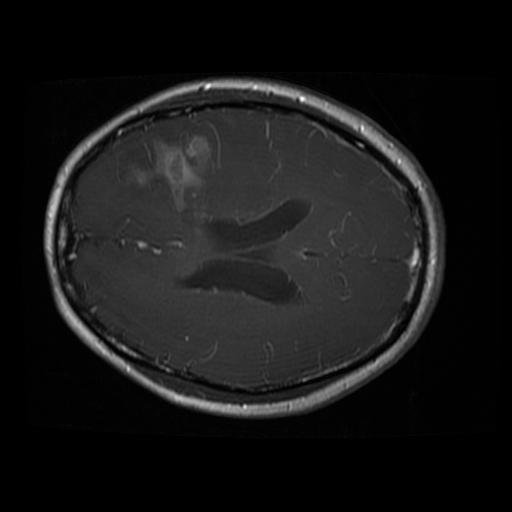glioma: (115, 119, 230, 216)
